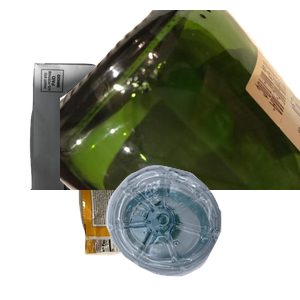glass: (60, 10, 300, 190)
paper: (27, 60, 223, 240)
plastic: (104, 163, 300, 300)
trash: (76, 159, 259, 300)
